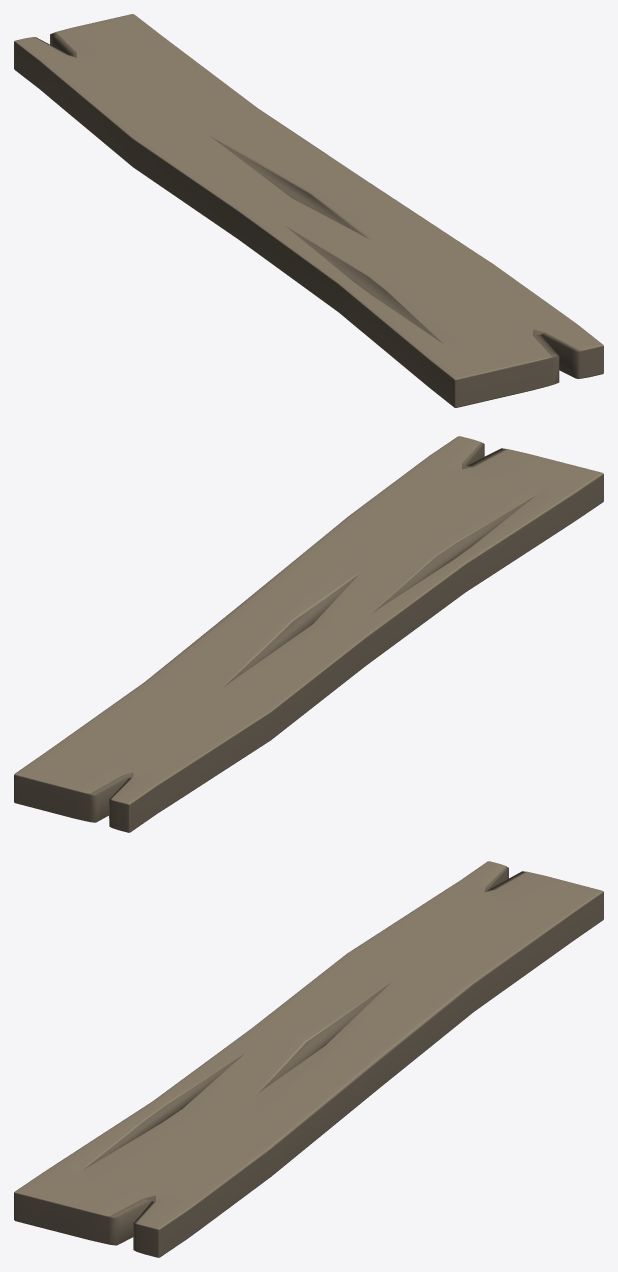
The model's file is Board.fbx.
3 renders of one model, top to bottom at view 1: azimuth 30°, elevation 25°; view 2: azimuth 150°, elevation 25°; view 3: azimuth 330°, elevation 25°, orthographic.
Parts seen in each view (by area): view 1: Board; view 2: Board; view 3: Board.
Boxes of the visible parts, x1=… form: Board: x1=14, y1=14, x2=603, y2=407; Board: x1=14, y1=436, x2=603, y2=832; Board: x1=14, y1=861, x2=603, y2=1257.
Size of the model in its own units: 12.12 by 2.26 by 64.63.
